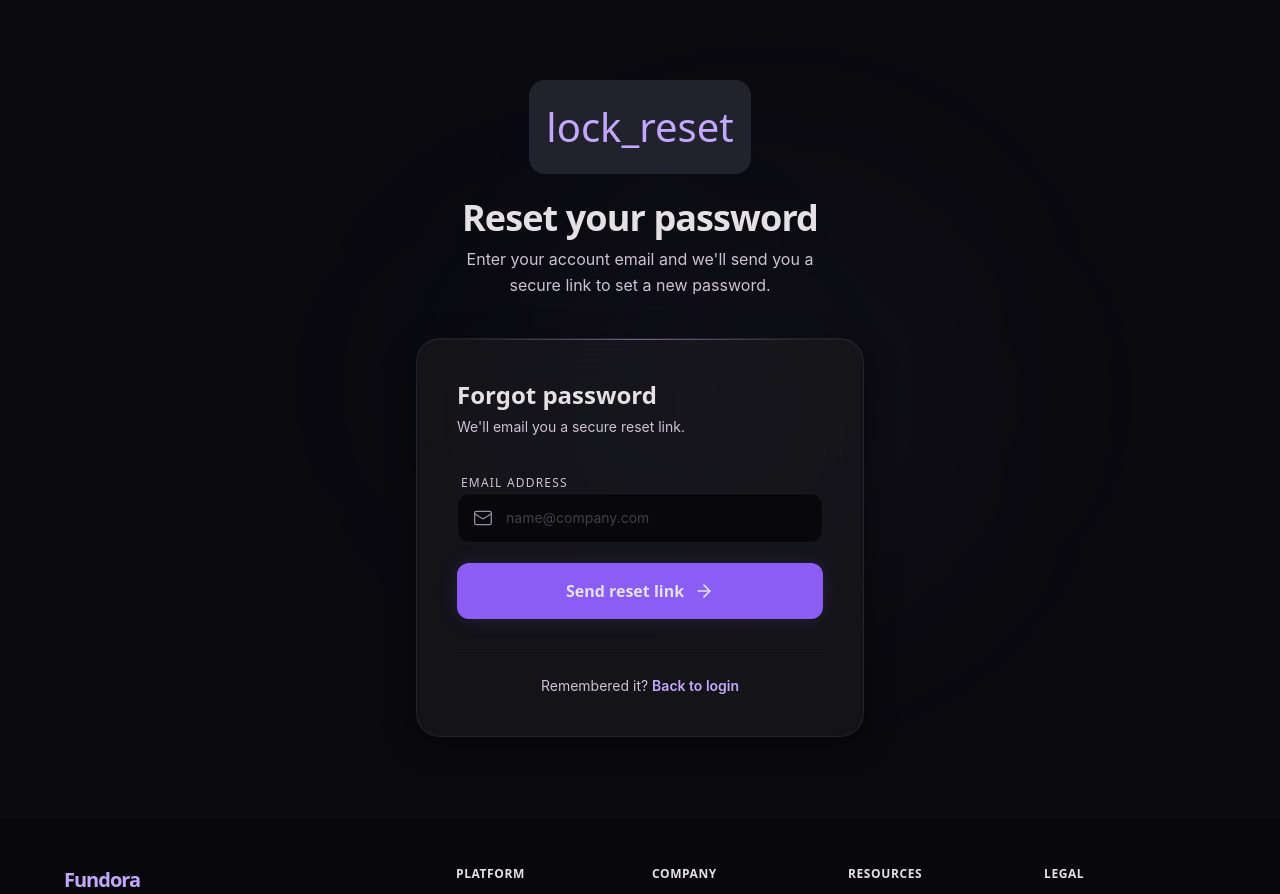
Test: ForgotPasswordPage › shows a confirmation after the email is sent
The width and height of the screenshot is (1280, 894).
Type "test@example.com" into the field labelled "Email Address" at (640, 518), box [457,493,823,543]
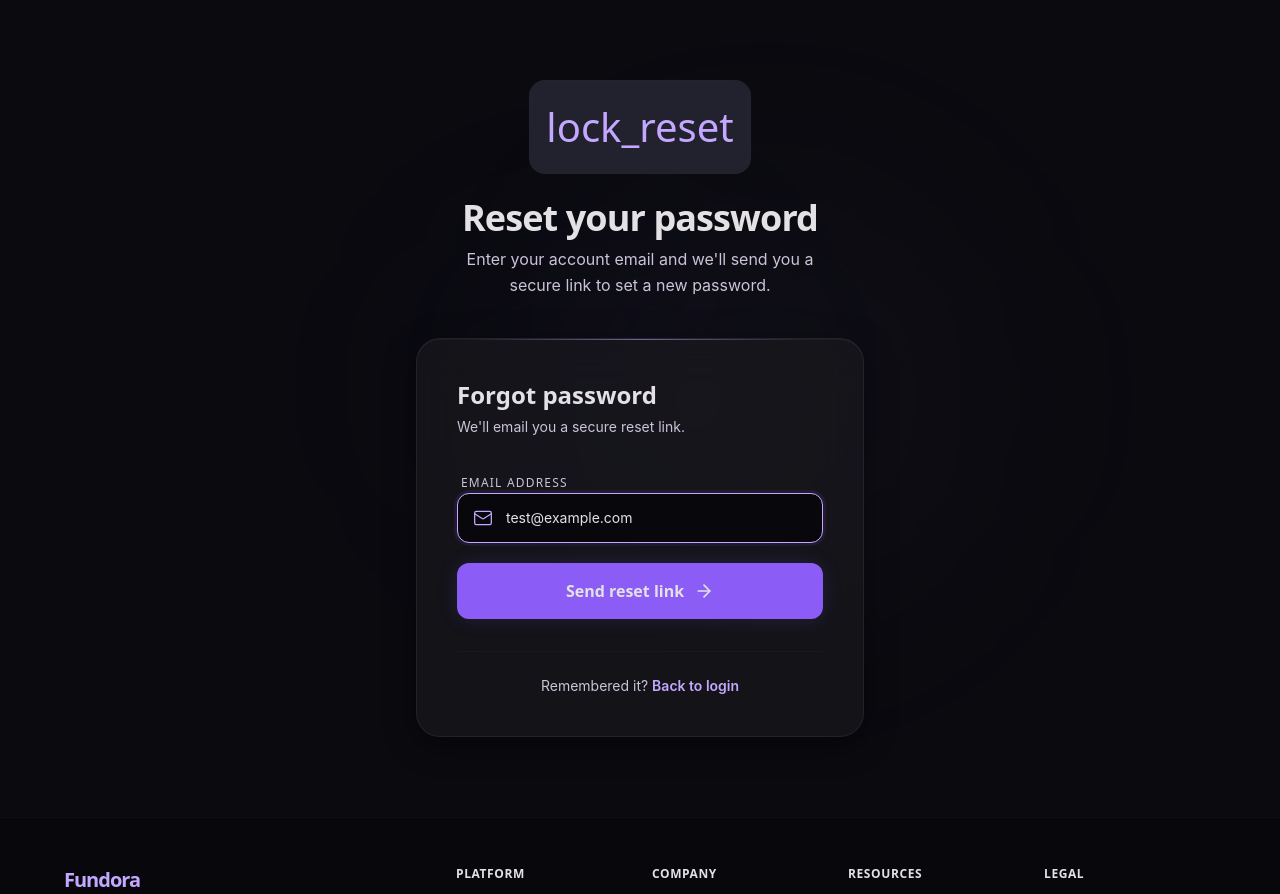
Click the button "Send reset link" at (640, 591), box [457,563,823,619]
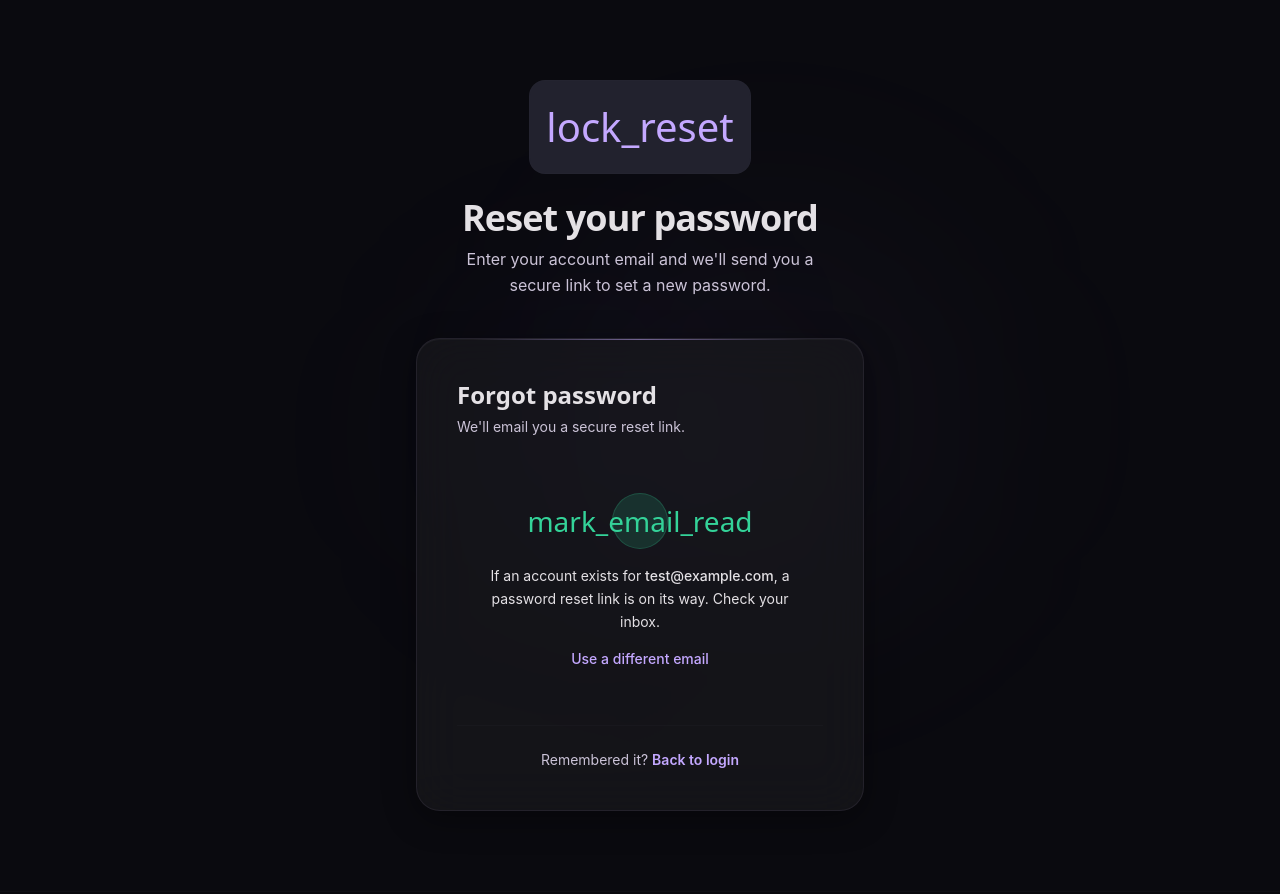
Now the text "reset link is on its way" is shown, box [492,567,790,630]
